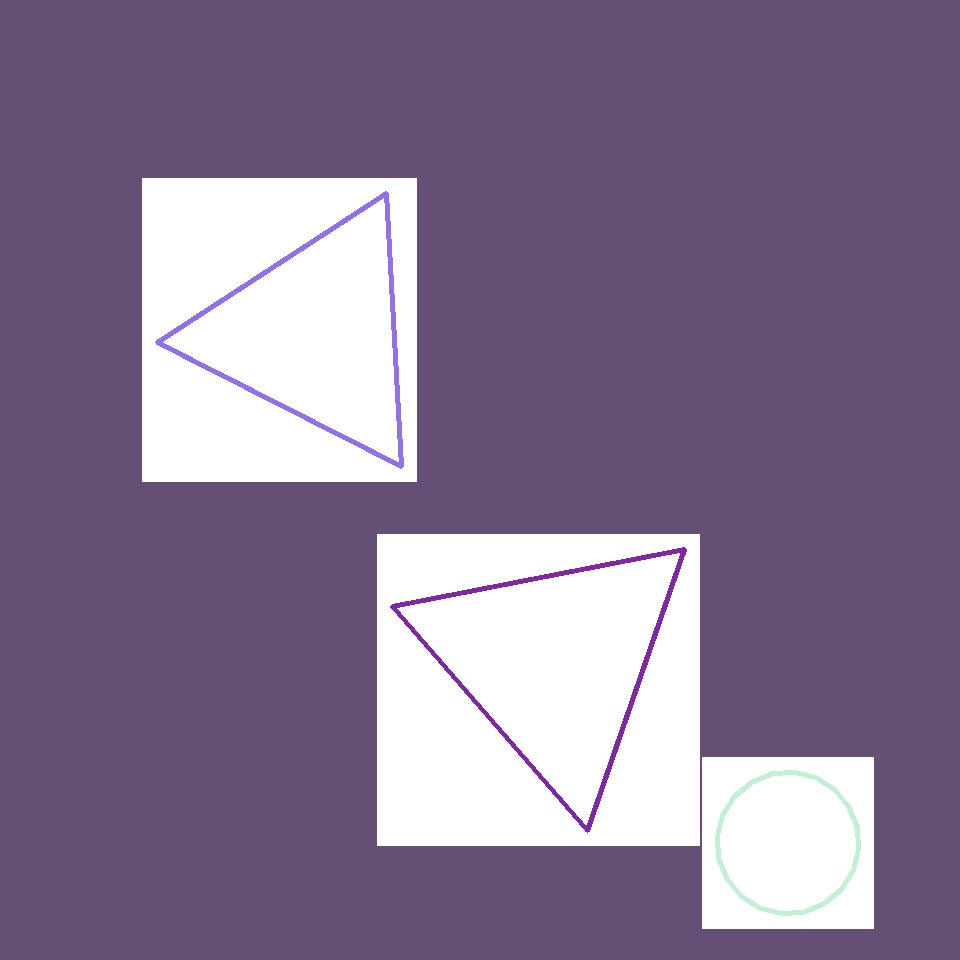circle: (409, 522, 701, 802), (193, 198, 437, 470), (566, 606, 758, 774), (160, 174, 328, 320), (148, 598, 255, 694)
square: (312, 158, 562, 408)
triangle: (554, 576, 810, 832), (147, 614, 316, 782), (717, 772, 858, 914)
